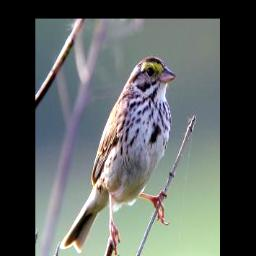Sparrow: (59, 55, 177, 256)
